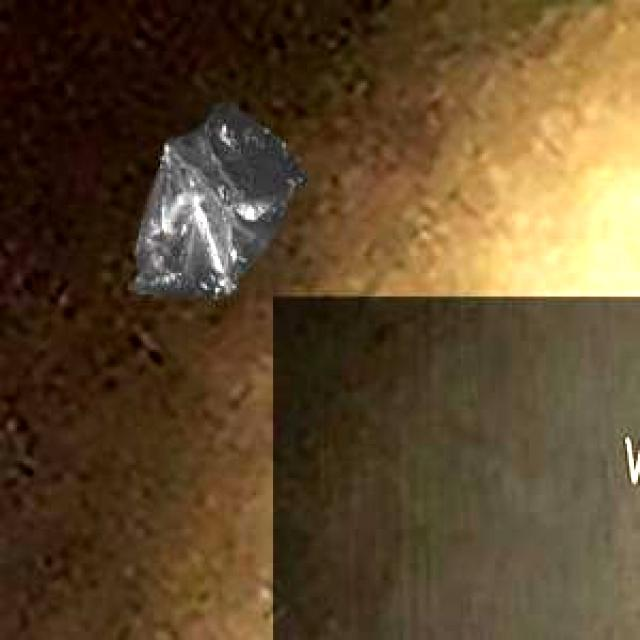Plastic_Bag: (125, 97, 304, 296)
